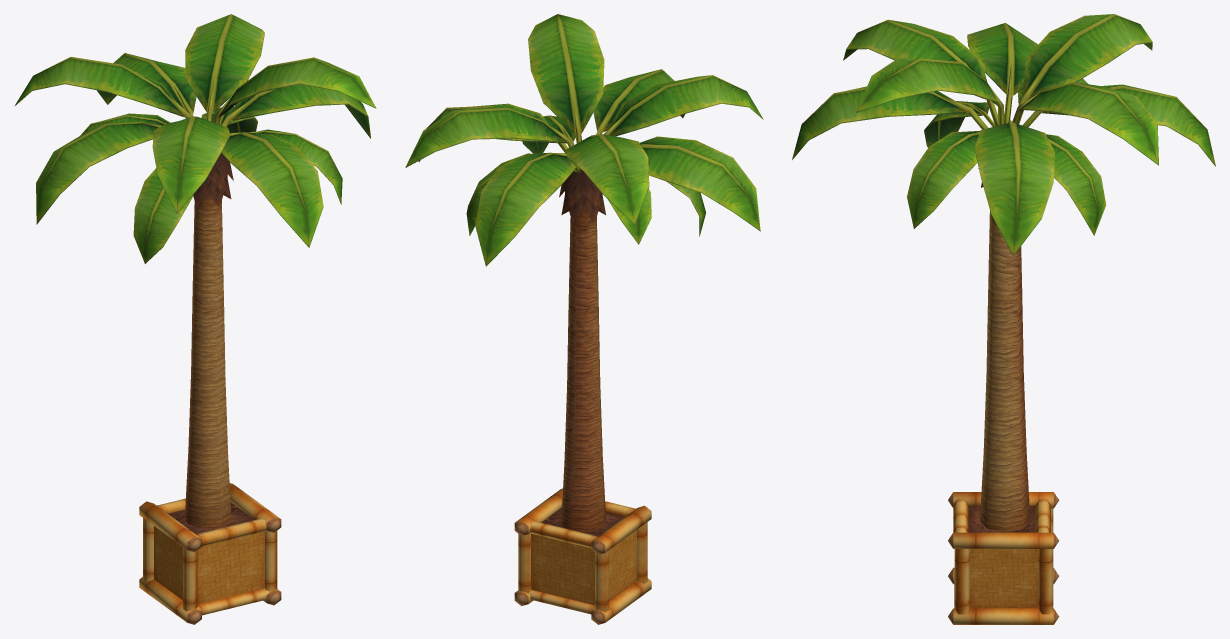
Rendered from Pot_Palmtree_01.FBX.
The picture shows the model from 3 angles, left to right: view 1: azimuth 30°, elevation 25°; view 2: azimuth 150°, elevation 25°; view 3: azimuth 270°, elevation 25°; orthographic projection. The views are drawn at different scales.
Visible parts, largest first — view 1: Pot_Palmtree_01; view 2: Pot_Palmtree_01; view 3: Pot_Palmtree_01.
Part boxes in pixels (x1,y1,x2,y2): Pot_Palmtree_01: (14,14,376,624); Pot_Palmtree_01: (405,14,763,624); Pot_Palmtree_01: (792,14,1215,624).
Size of the model in its own units: 2.96 by 3.02 by 4.55.
